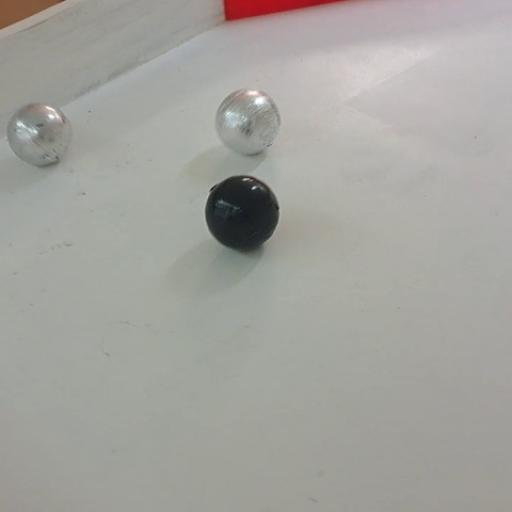alive: (214, 87, 282, 155), (6, 102, 74, 166)
dead: (204, 174, 282, 252)
